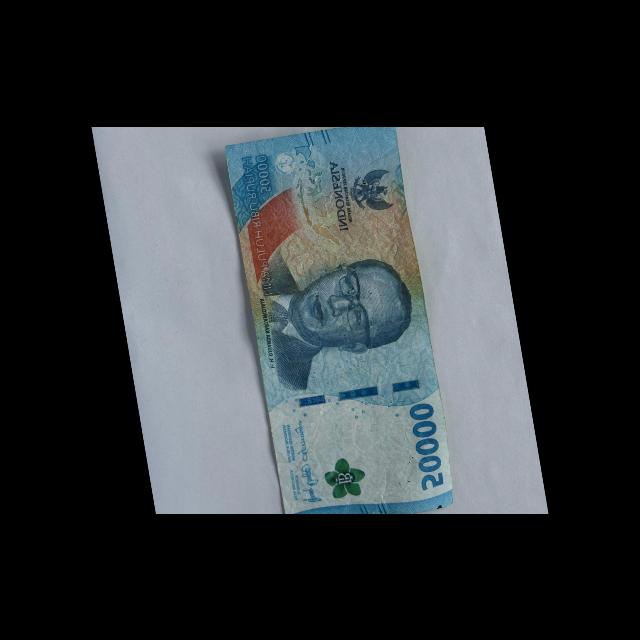Palsu-50k: (221, 115, 461, 536)
Tinta-Palsu-50k: (320, 452, 370, 502)
